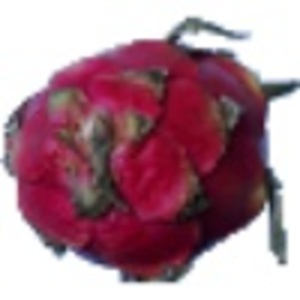pitaia: (1, 17, 300, 286)
